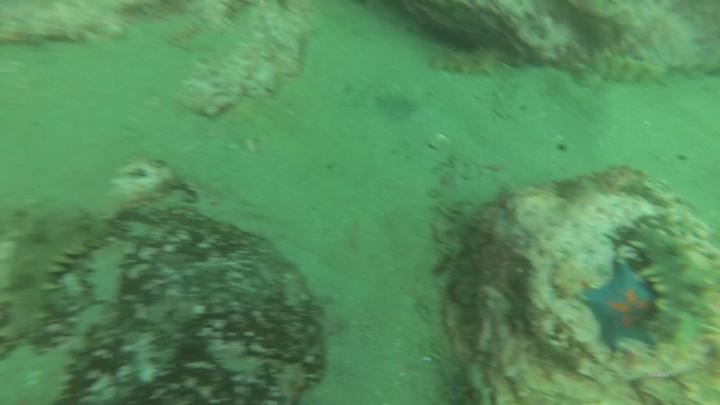holothurian: (15, 215, 116, 341), (627, 222, 720, 346), (583, 50, 669, 89), (425, 45, 508, 78)
starfish: (579, 262, 658, 352)
